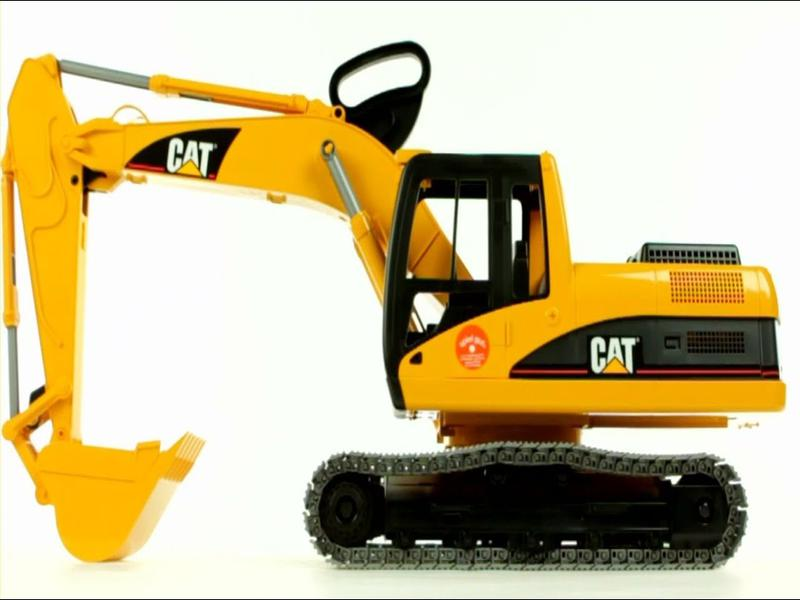shovel: (1, 38, 791, 588)
